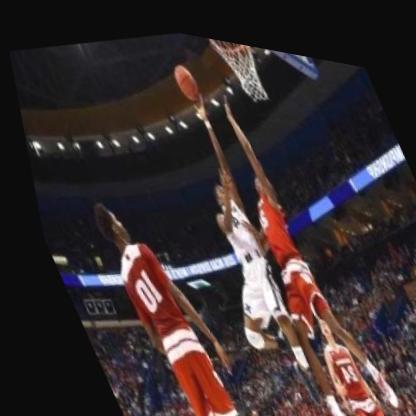basketball: (164, 49, 205, 101)
